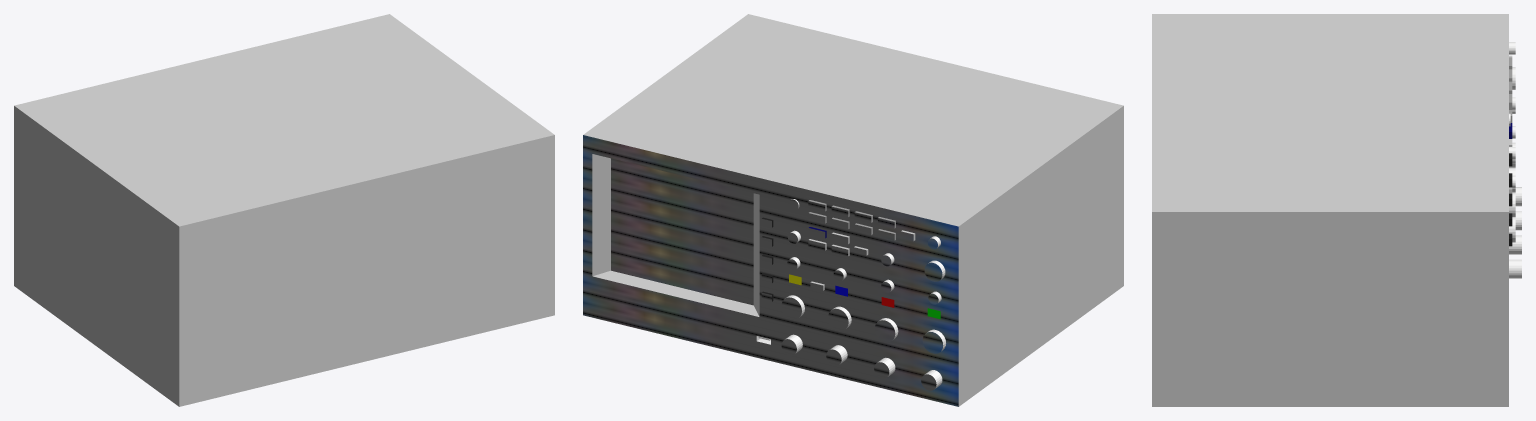
File: Oscilloscope.fbx
The picture shows the model from 3 angles, left to right: view 1: azimuth 30°, elevation 25°; view 2: azimuth 150°, elevation 25°; view 3: azimuth 270°, elevation 25°; orthographic projection. The views are drawn at different scales.
Parts seen in each view (by area): view 1: Group_1_1; view 2: Group_1_1; view 3: Group_1_1.
Part boxes in pixels (x1,y1,x2,y2): Group_1_1: [14, 14, 554, 406]; Group_1_1: [583, 14, 1123, 406]; Group_1_1: [1152, 14, 1508, 406].
Bounding box in the file's own units: 18.25 × 8.38 × 14.4.
